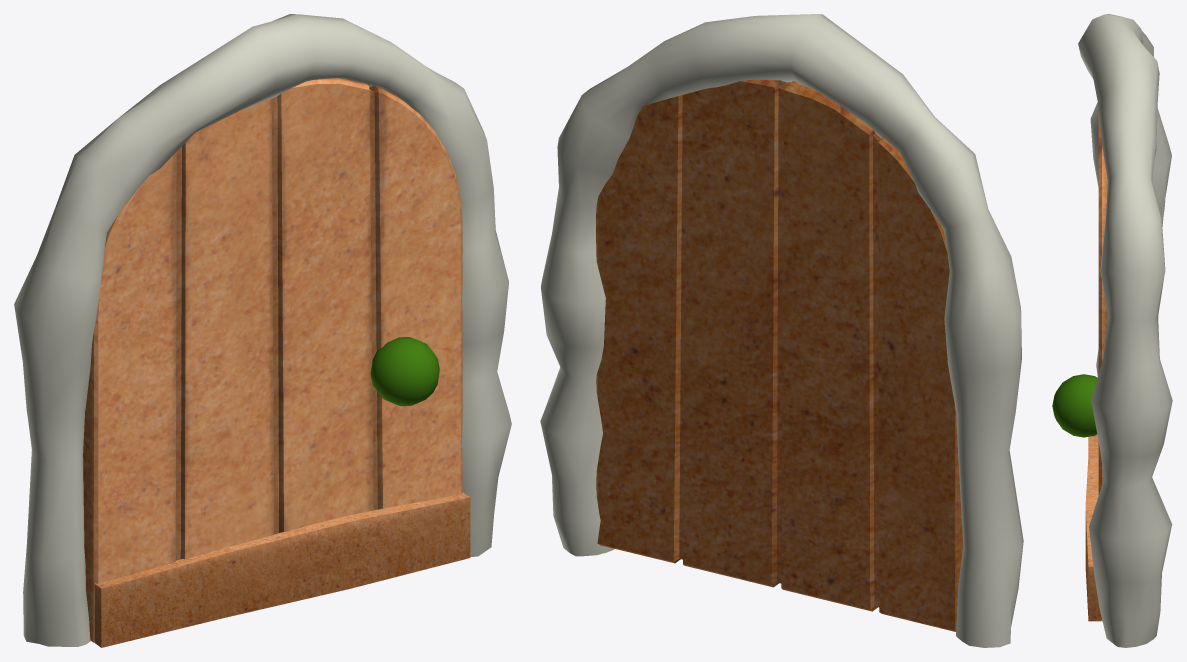
Rendered from Door_Rounded.glb.
3 renders of one model, left to right at view 1: azimuth 30°, elevation 25°; view 2: azimuth 150°, elevation 25°; view 3: azimuth 270°, elevation 25°, orthographic. The views are drawn at different scales.
Visible parts, largest first — view 1: Door_Rounded; view 2: Door_Rounded; view 3: Door_Rounded.
Boxes of the visible parts, bbox=[...] form: Door_Rounded: bbox=[14, 14, 511, 647]; Door_Rounded: bbox=[540, 14, 1023, 647]; Door_Rounded: bbox=[1052, 14, 1172, 647].
Size of the model in its own units: 0.0243 by 0.0281 by 0.00583.
4 materials, 4 textured.
